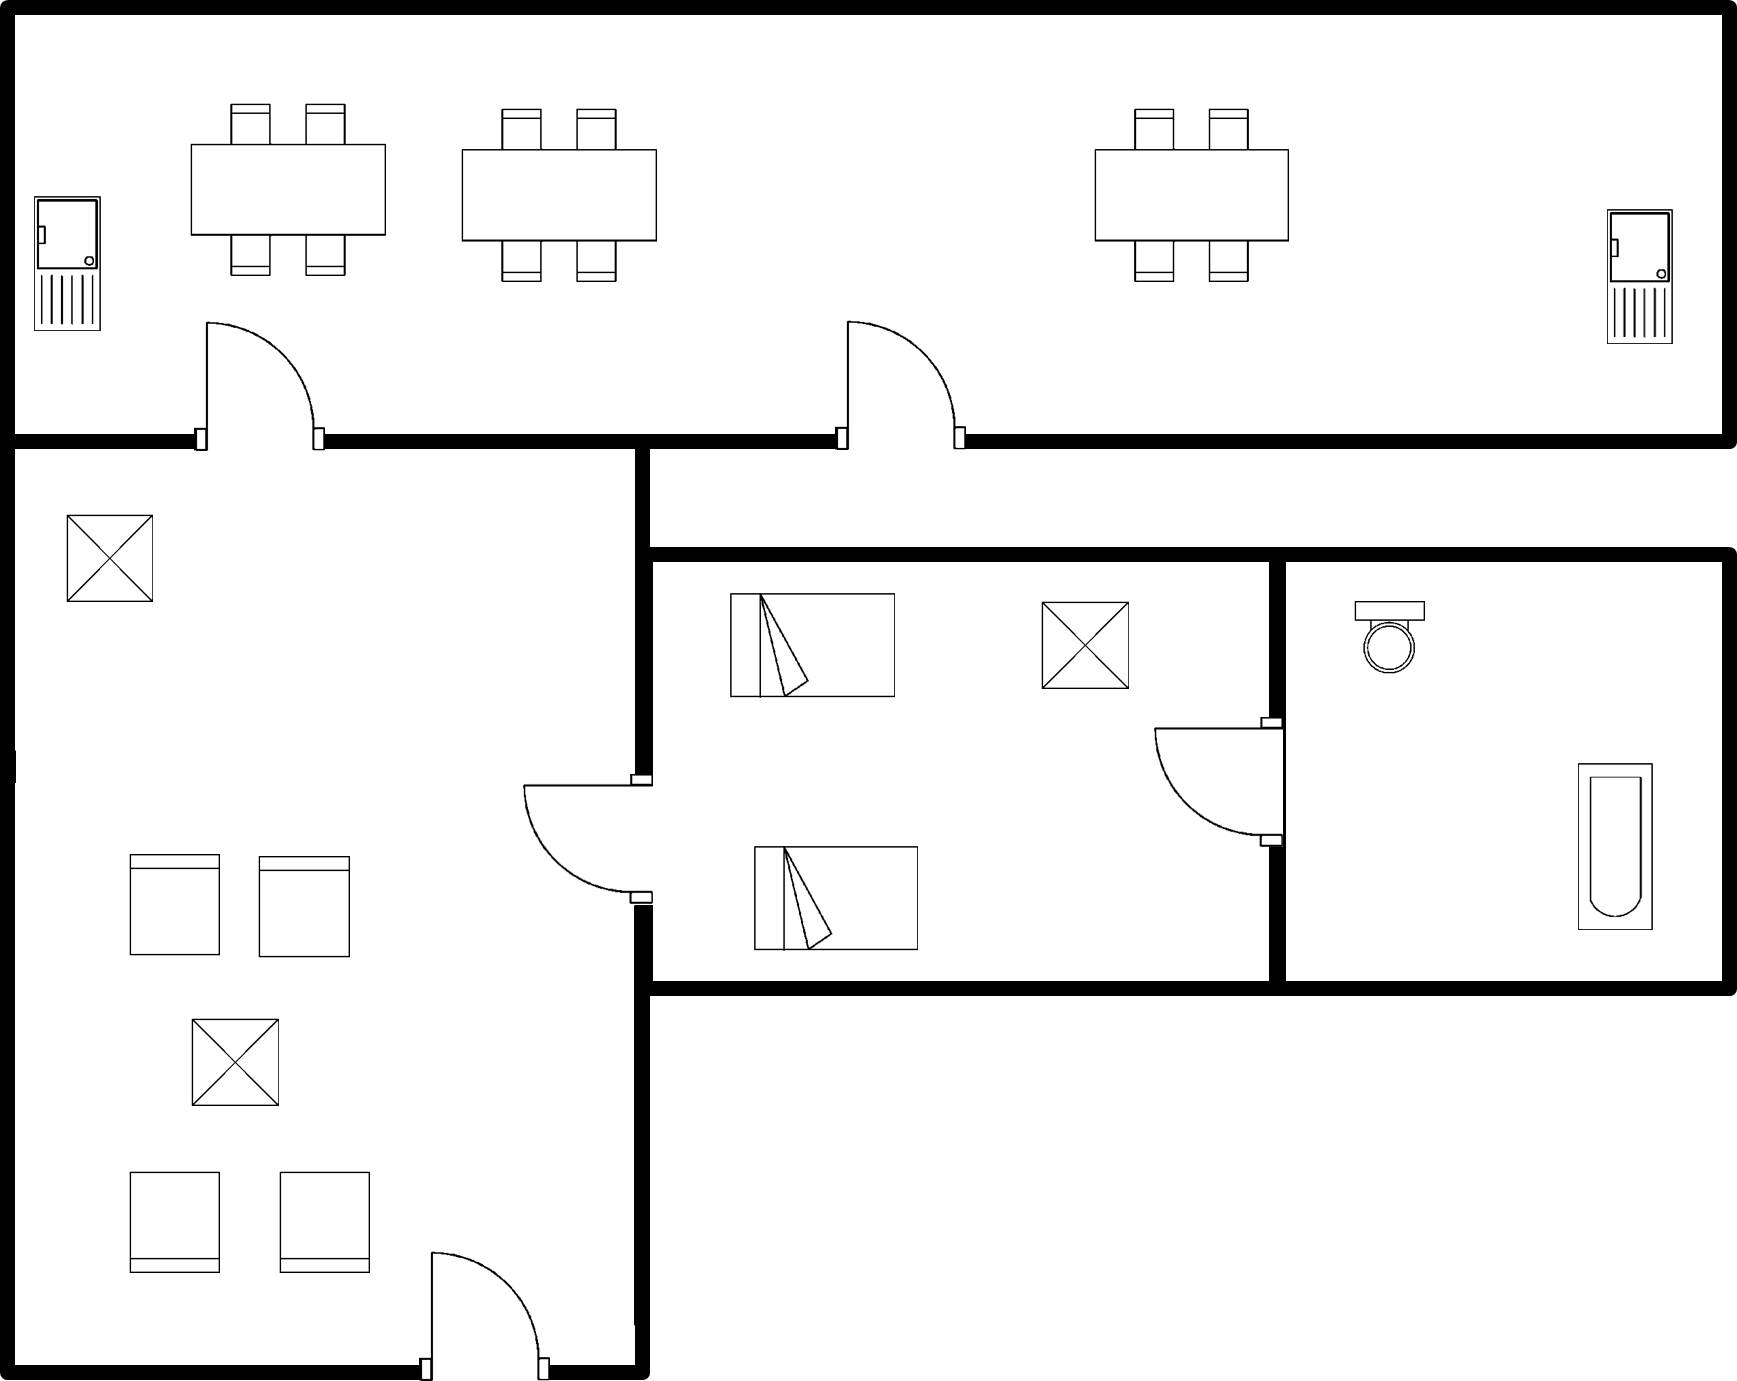bed: (718, 579, 905, 708), (741, 836, 928, 958)
coffee_table: (55, 498, 167, 619), (181, 1005, 289, 1116), (1031, 590, 1137, 698)
dining_table: (1081, 98, 1308, 297), (448, 98, 681, 290), (177, 96, 401, 289)
large_sink: (1339, 589, 1435, 681)
sink: (1591, 197, 1686, 355), (24, 185, 113, 342)
small_sofa: (271, 1162, 383, 1290), (244, 847, 360, 970), (117, 1161, 229, 1286), (118, 842, 228, 965)
tub: (1564, 752, 1672, 946)
